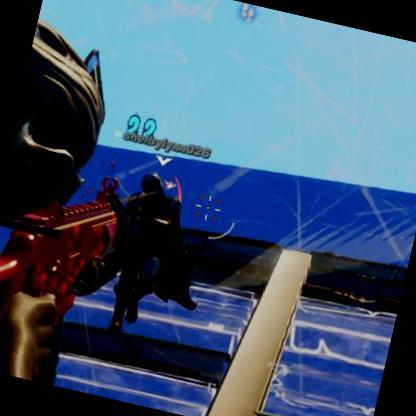person: (106, 168, 196, 329)
